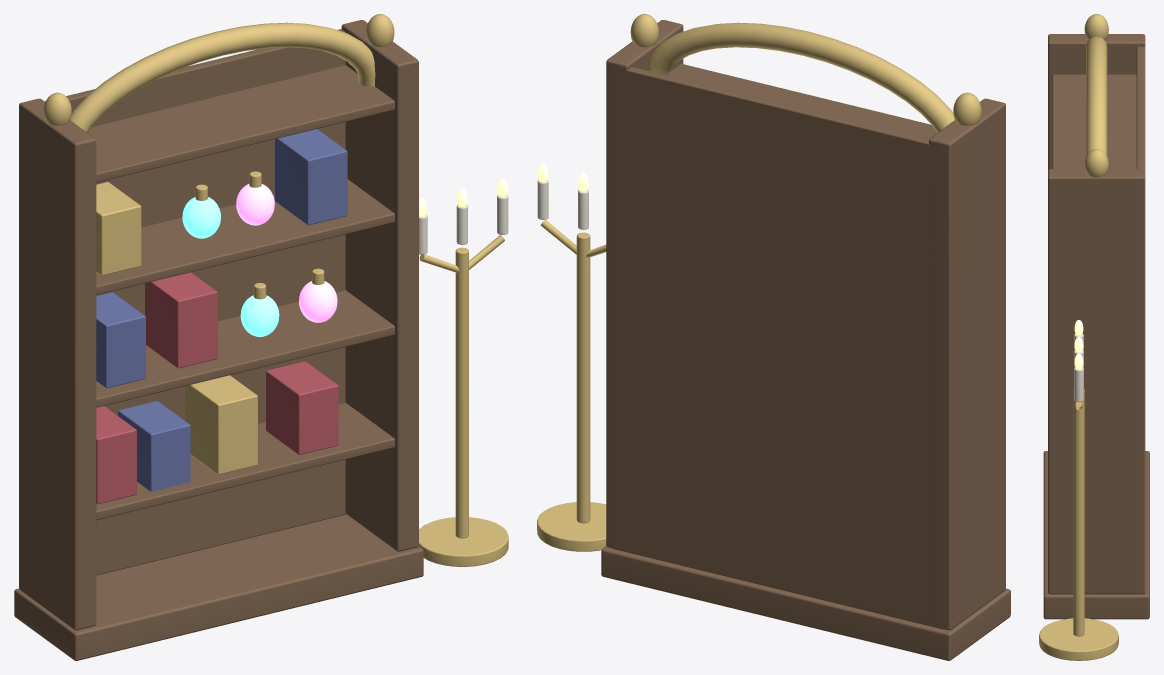
Rendered from fantasy_alchemy_bookshelf_rack_v10.glb.
The picture shows the model from 3 angles, left to right: view 1: azimuth 30°, elevation 25°; view 2: azimuth 150°, elevation 25°; view 3: azimuth 270°, elevation 25°; orthographic projection. The views are drawn at different scales.
Parts seen in each view (by area): view 1: V10_BookshelfBackPanel, V10_BookshelfSidePillar, V10_BookshelfSidePillar.001, V10_BookshelfPlinth, V10_BookshelfPlank.003, V10_BookshelfPlank.002, V10_BookshelfPlank.001, V10_GothicCrownArch, V10_BookshelfPlank, V10_GrimoireCluster_2, V10_GrimoireCluster_7, V10_GrimoireCluster_5 (+13 smaller); view 2: V10_BookshelfBackPanel, V10_BookshelfSidePillar, V10_BookshelfPlinth, V10_GothicCrownArch, V10_BookshelfSidePillar.001, V10_CandelabraStem, V10_BookshelfPlank.003, V10_CandelabraBase, V10_PillarBrassFinial, V10_PillarBrassFinial.001; view 3: V10_BookshelfSidePillar.001, V10_BookshelfPlank.003, V10_BookshelfPlinth, V10_BookshelfSidePillar, V10_CandelabraStem, V10_CandelabraBase, V10_GothicCrownArch, V10_BookshelfBackPanel, V10_PillarBrassFinial.001, V10_PillarBrassFinial, V10_WaxCandleStick.002.
Boxes of the visible parts, <box> form: V10_BookshelfBackPanel: <box>45,29,346,575</box>; V10_BookshelfSidePillar: <box>19,98,96,630</box>; V10_BookshelfSidePillar.001: <box>341,20,418,551</box>; V10_BookshelfPlinth: <box>14,514,423,660</box>; V10_BookshelfPlank.003: <box>88,65,394,182</box>; V10_BookshelfPlank.002: <box>96,179,394,294</box>; V10_BookshelfPlank.001: <box>96,290,394,407</box>; V10_GothicCrownArch: <box>70,22,375,132</box>; V10_BookshelfPlank: <box>96,403,394,520</box>; V10_GrimoireCluster_2: <box>185,375,257,474</box>; V10_GrimoireCluster_7: <box>274,129,347,225</box>; V10_GrimoireCluster_5: <box>145,272,217,368</box>; V10_BookshelfBackPanel: <box>612,67,942,629</box>; V10_BookshelfSidePillar: <box>929,98,1005,630</box>; V10_BookshelfPlinth: <box>601,546,1010,660</box>; V10_GothicCrownArch: <box>650,22,954,132</box>; V10_BookshelfSidePillar.001: <box>606,20,683,549</box>; V10_CandelabraStem: <box>576,232,590,523</box>; V10_BookshelfPlank.003: <box>667,63,937,139</box>; V10_CandelabraBase: <box>537,502,606,551</box>; V10_PillarBrassFinial: <box>953,92,981,125</box>; V10_PillarBrassFinial.001: <box>630,14,658,46</box>; V10_BookshelfSidePillar.001: <box>1048,169,1145,594</box>; V10_BookshelfPlank.003: <box>1052,74,1136,168</box>; V10_BookshelfPlinth: <box>1043,451,1149,619</box>; V10_BookshelfSidePillar: <box>1048,34,1145,170</box>; V10_CandelabraStem: <box>1073,389,1084,636</box>; V10_CandelabraBase: <box>1039,618,1118,660</box>; V10_GothicCrownArch: <box>1086,36,1107,156</box>; V10_BookshelfBackPanel: <box>1136,46,1145,169</box>; V10_PillarBrassFinial.001: <box>1084,149,1108,177</box>; V10_PillarBrassFinial: <box>1084,14,1108,40</box>; V10_WaxCandleStick.002: <box>1074,367,1083,401</box>.
Bounding box in the file's own units: 2.02 × 2.41 × 0.5.
